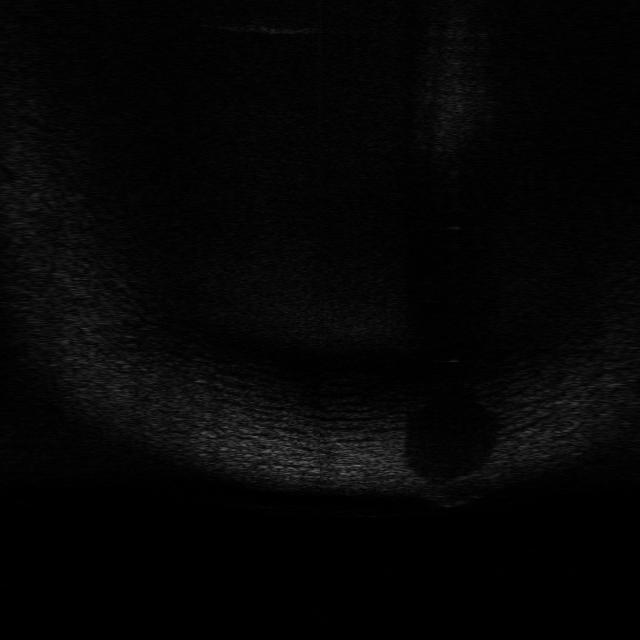cube: (414, 465, 496, 510)
